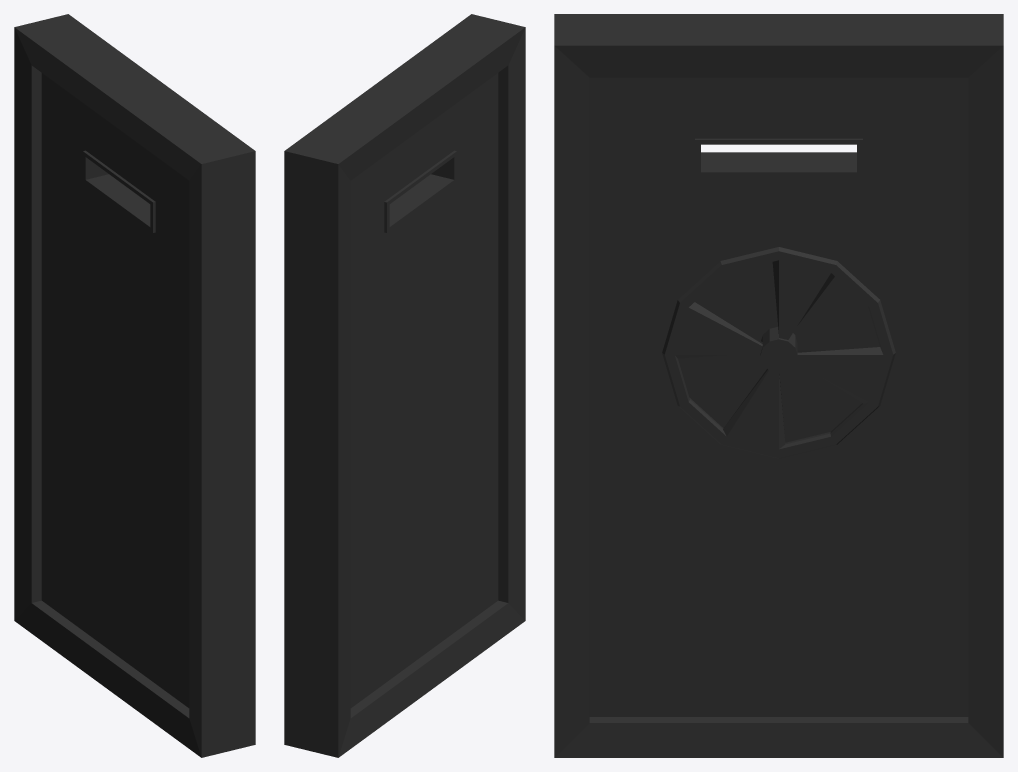
File: HeavyDoor.fbx
3 renders of one model, left to right at view 1: azimuth 30°, elevation 25°; view 2: azimuth 150°, elevation 25°; view 3: azimuth 270°, elevation 25°, orthographic. The views are drawn at different scales.
Visible parts, largest first — view 1: Cylinder; view 2: Cylinder; view 3: Cylinder.
Boxes of the visible parts, <box> form: Cylinder: <box>14,14,255,757</box>; Cylinder: <box>284,14,525,757</box>; Cylinder: <box>554,14,1003,757</box>.
Size of the model in its own units: 23.38 by 210 by 120.
